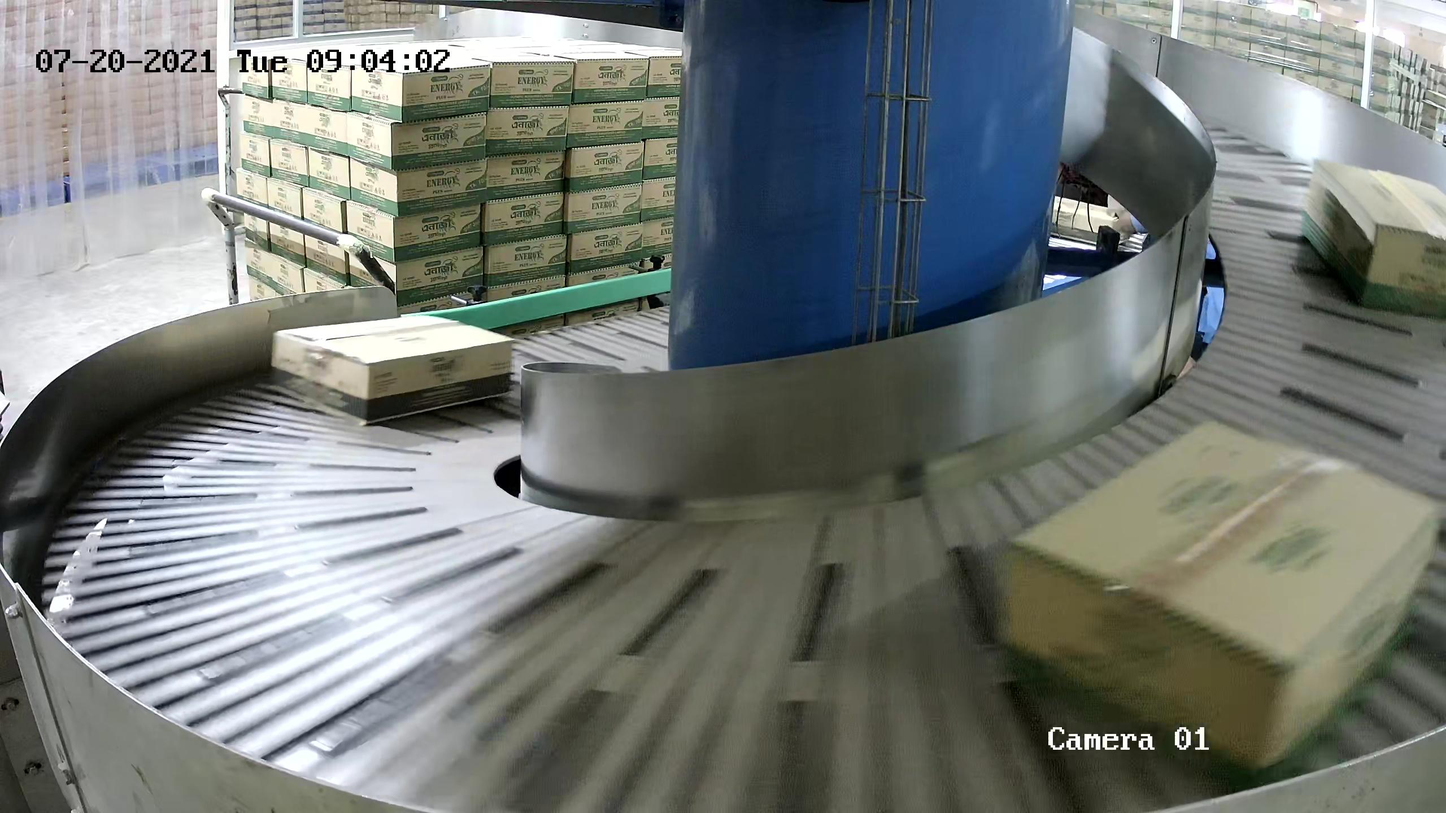Box: (994, 416, 1443, 795), (270, 314, 516, 425), (1299, 155, 1446, 318)
